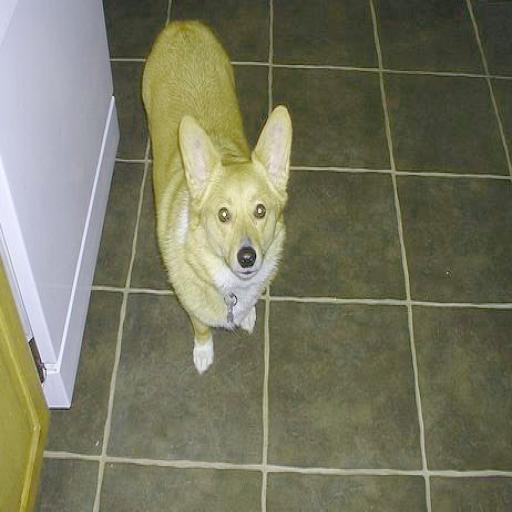dog_face: (175, 111, 304, 266)
